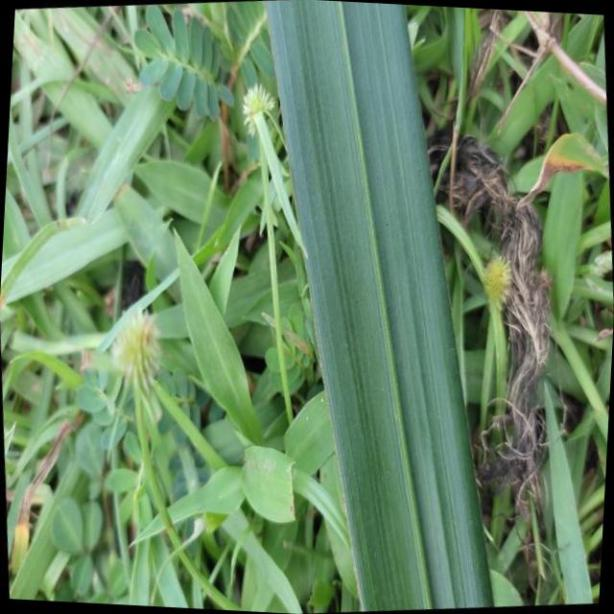Healthy: (262, 3, 499, 614)
